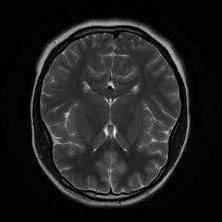Normal_Brain: (3, 6, 216, 222)
